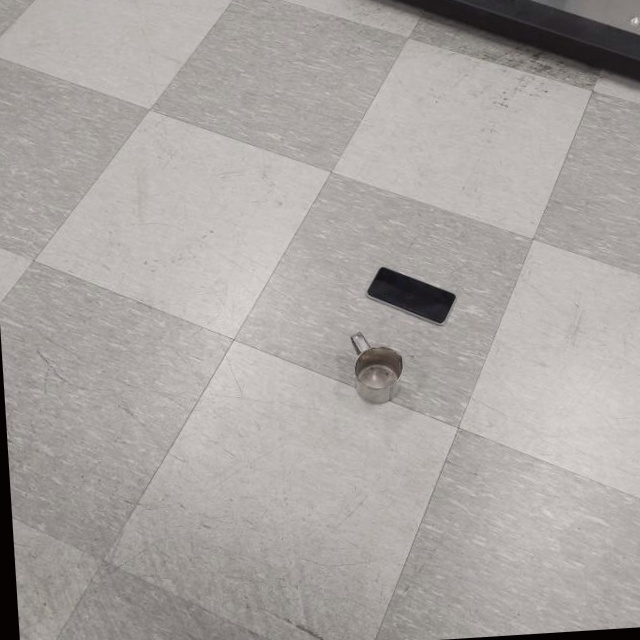cup: (347, 328, 405, 405)
phone: (361, 261, 460, 331)
